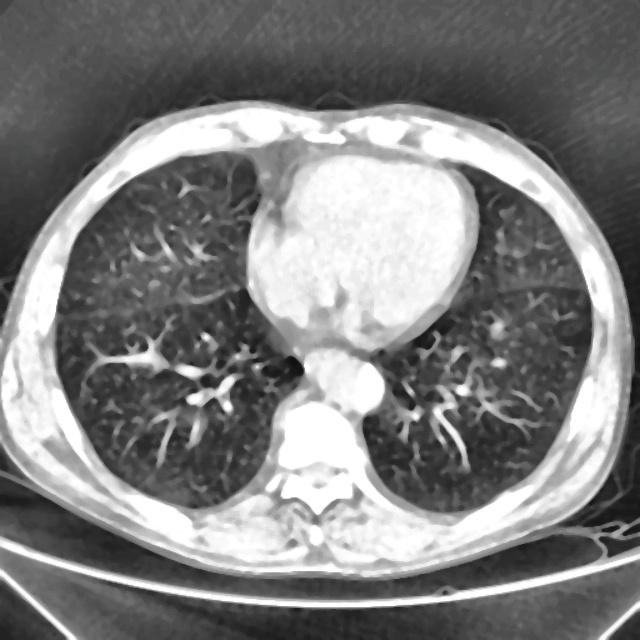covid: (1, 98, 634, 581)
